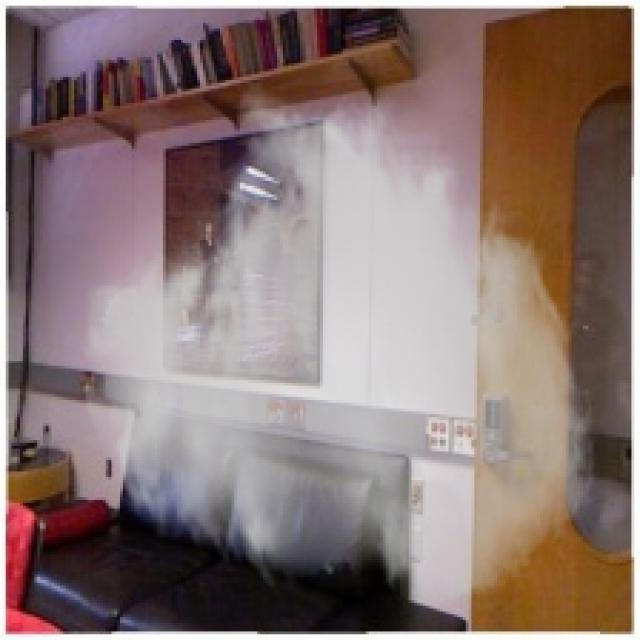Smoke: (77, 80, 600, 609)
